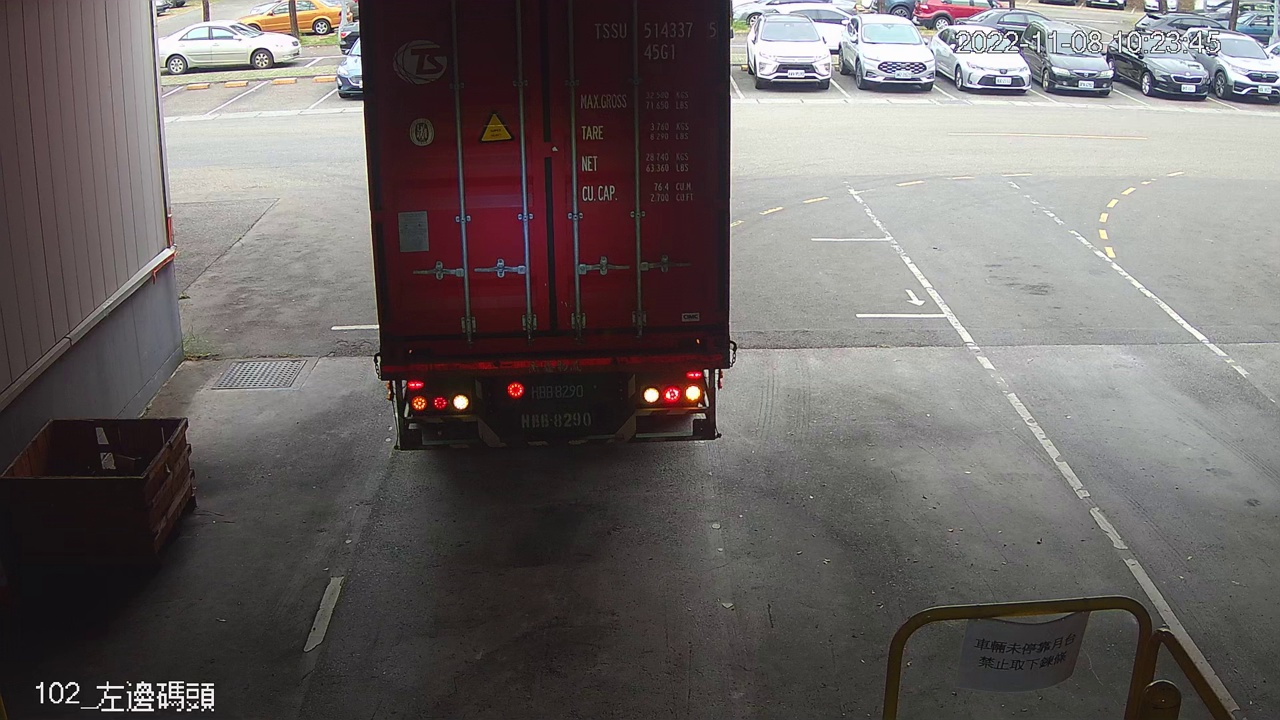container: (587, 11, 723, 65)
